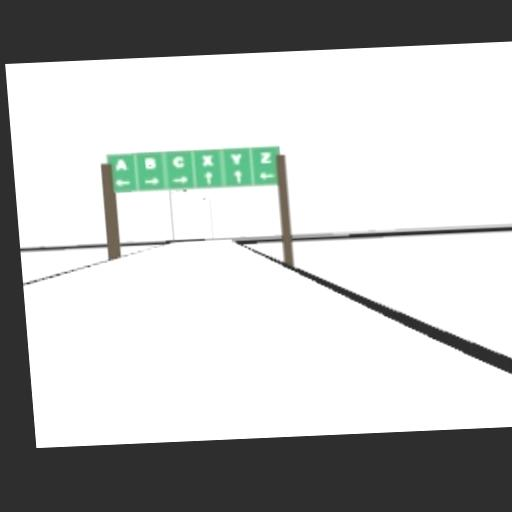A: (115, 158, 127, 170)
B: (143, 155, 158, 171), (172, 154, 186, 169)
Left: (259, 172, 276, 180), (113, 179, 128, 186)
Right: (143, 177, 160, 185), (171, 176, 188, 184)
Straight: (203, 171, 213, 186), (231, 170, 241, 184)
X: (200, 153, 213, 166)
Y: (230, 152, 242, 164)
Z: (259, 151, 272, 163)
